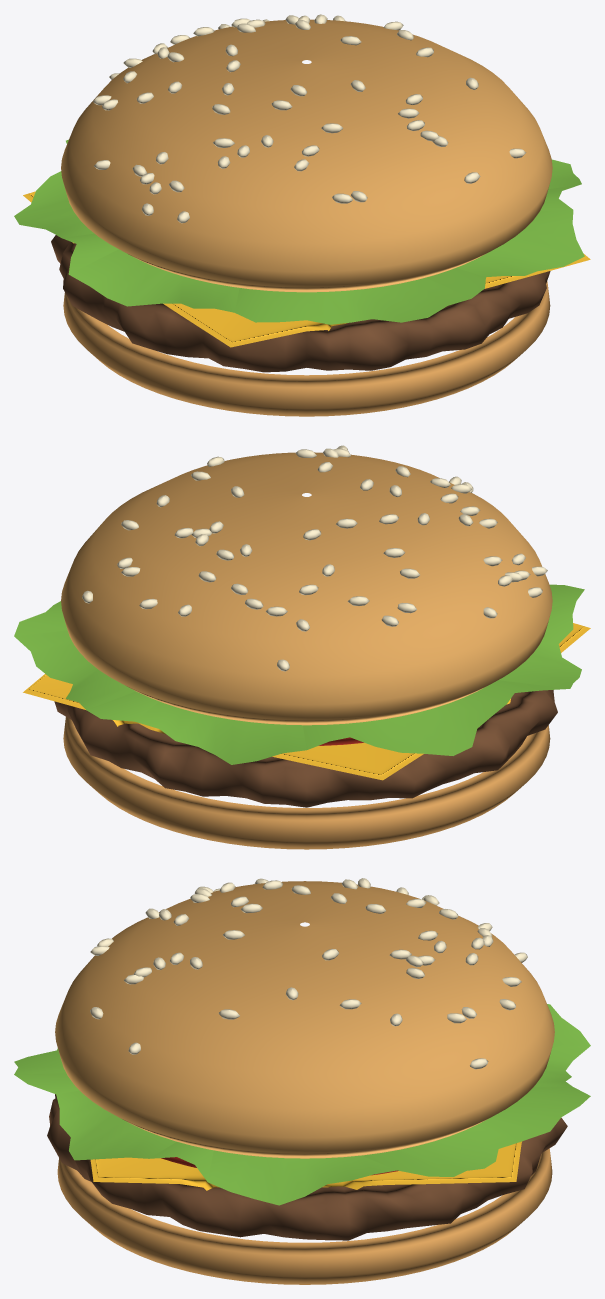
File: burger.glb
3 renders of one model, top to bottom at view 1: azimuth 30°, elevation 25°; view 2: azimuth 150°, elevation 25°; view 3: azimuth 270°, elevation 25°, orthographic.
Visible parts, largest first — view 1: pan, lechuga, base, carne, sesamo, queso; view 2: pan, lechuga, base, carne, sesamo, queso; view 3: pan, lechuga, base, carne, sesamo, queso.
Part boxes in pixels (left/top/right/bottom): pan: left=61, top=19, right=552, bottom=292; lechuga: left=14, top=139, right=584, bottom=324; base: left=63, top=281, right=550, bottom=416; carne: left=51, top=235, right=550, bottom=372; sesamo: left=93, top=14, right=526, bottom=223; queso: left=23, top=191, right=590, bottom=347; pan: left=61, top=452, right=552, bottom=725; lechuga: left=14, top=584, right=584, bottom=764; base: left=63, top=717, right=550, bottom=849; carne: left=54, top=690, right=557, bottom=807; sesamo: left=82, top=445, right=547, bottom=671; queso: left=23, top=623, right=590, bottom=780; pan: left=55, top=881, right=554, bottom=1158; lechuga: left=14, top=1004, right=590, bottom=1205; base: left=57, top=1148, right=552, bottom=1284; carne: left=47, top=1094, right=567, bottom=1240; sesamo: left=90, top=878, right=527, bottom=1069; queso: left=90, top=1141, right=522, bottom=1190.
Bounding box in the file's own units: 0.1443 × 0.0726 × 0.1413.
